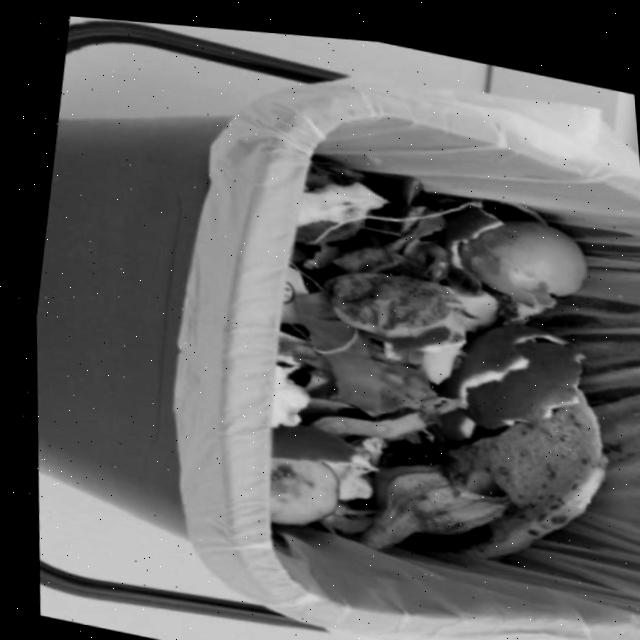Garbage: (261, 151, 599, 546)
